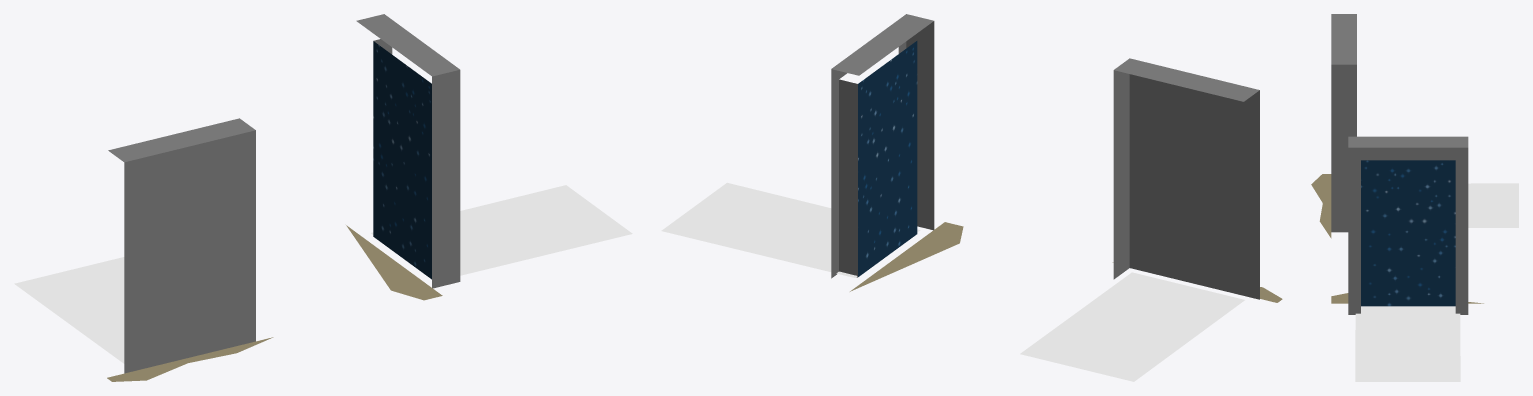
File: Portal_4.fbx
The picture shows the model from 3 angles, left to right: view 1: azimuth 30°, elevation 25°; view 2: azimuth 150°, elevation 25°; view 3: azimuth 270°, elevation 25°; orthographic projection. The views are drawn at different scales.
Visible parts, largest first — view 1: polySurface7602, polySurface7605; view 2: polySurface7602, polySurface7605; view 3: polySurface7605, polySurface7602.
Boxes of the visible parts, bbox=[...] form: polySurface7602: bbox=[14, 118, 273, 381]; polySurface7605: bbox=[346, 14, 632, 300]; polySurface7602: bbox=[1020, 58, 1282, 381]; polySurface7605: bbox=[661, 14, 963, 291]; polySurface7605: bbox=[1331, 136, 1483, 381]; polySurface7602: bbox=[1311, 14, 1518, 238].
Bounding box in the file's own units: 322 × 121 × 136.
